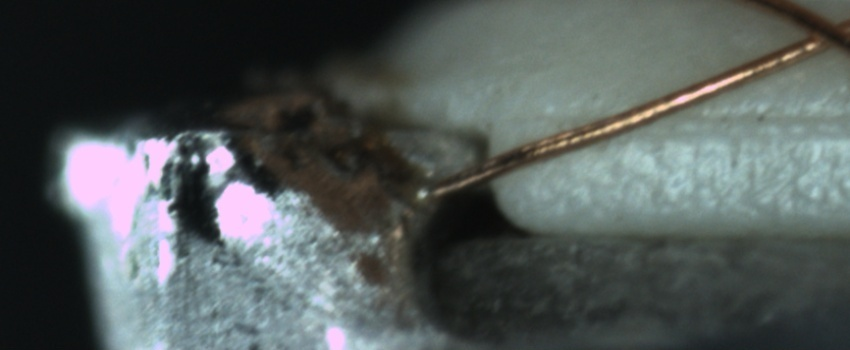CL: (778, 4, 849, 59)
DL: (554, 86, 847, 156)
